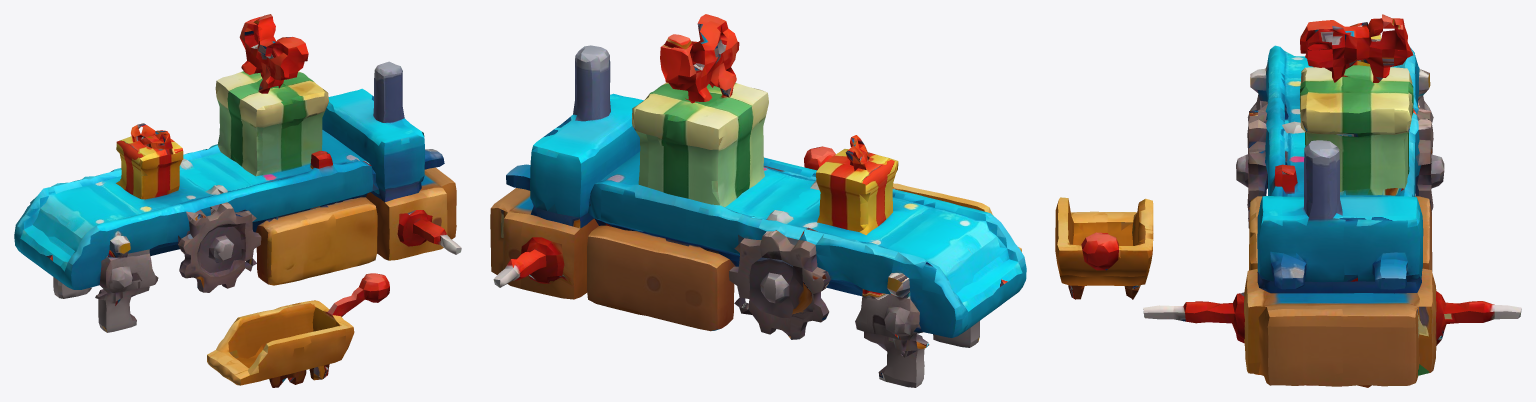
The model's file is xsw_belt.glb.
3 renders of one model, left to right at view 1: azimuth 30°, elevation 25°; view 2: azimuth 150°, elevation 25°; view 3: azimuth 270°, elevation 25°, orthographic. The views are drawn at different scales.
Visible parts, largest first — view 1: mesh_q; view 2: mesh_q; view 3: mesh_q.
Part boxes in pixels (<box>): mesh_q: <box>14,14,461,387</box>; mesh_q: <box>490,14,1026,387</box>; mesh_q: <box>1055,14,1521,387</box>.
Bounding box in the file's own units: 97.99 × 62.12 × 81.02.
1 material, 1 textured.
